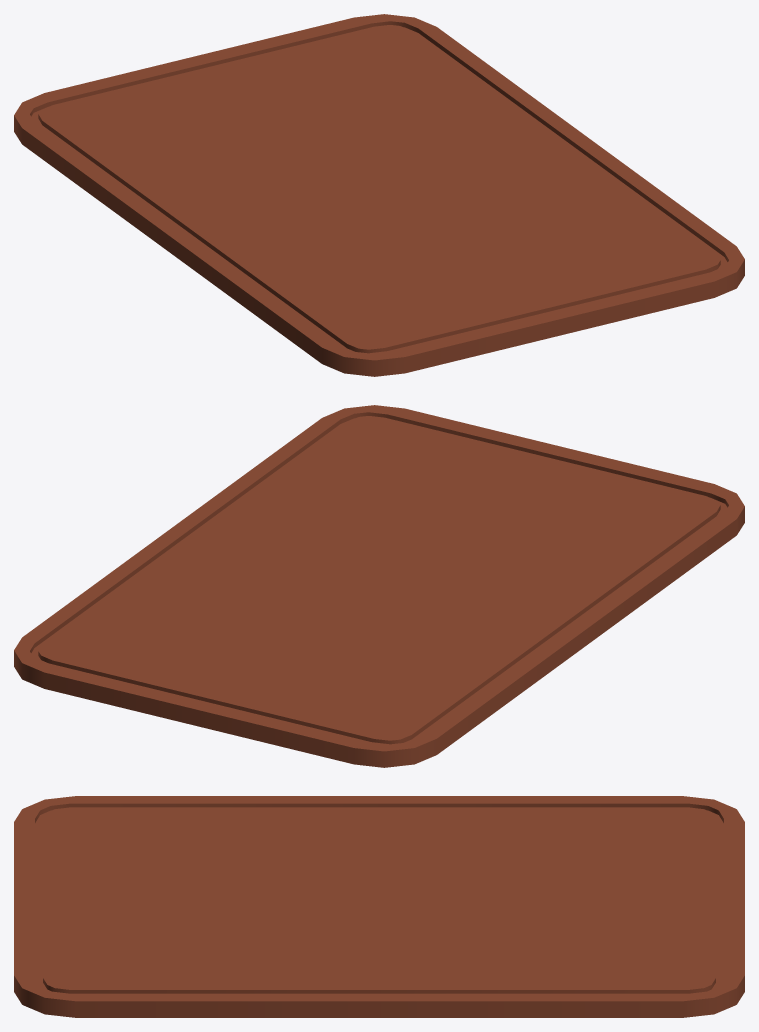
The model's file is Cutting_Board.fbx.
3 views of the same model, one above another, from view 1: azimuth 30°, elevation 25°; view 2: azimuth 150°, elevation 25°; view 3: azimuth 270°, elevation 25° (orthographic).
Parts seen in each view (by area): view 1: CuttingBoard_02; view 2: CuttingBoard_02; view 3: CuttingBoard_02.
Boxes of the visible parts, bbox=[...] form: CuttingBoard_02: bbox=[14, 14, 744, 376]; CuttingBoard_02: bbox=[14, 405, 744, 767]; CuttingBoard_02: bbox=[14, 796, 744, 1017].
Size of the model in its own units: 0.4052 by 0.0153 by 0.6101.
